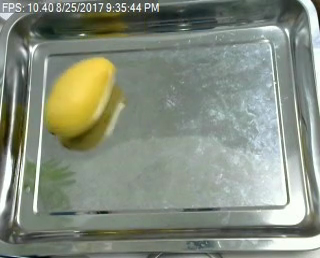Mango: (35, 53, 120, 135)
